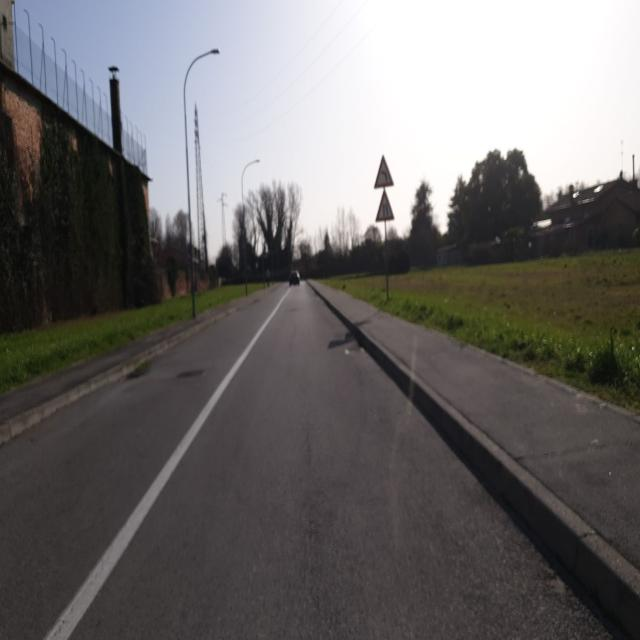car: (288, 269, 300, 287)
